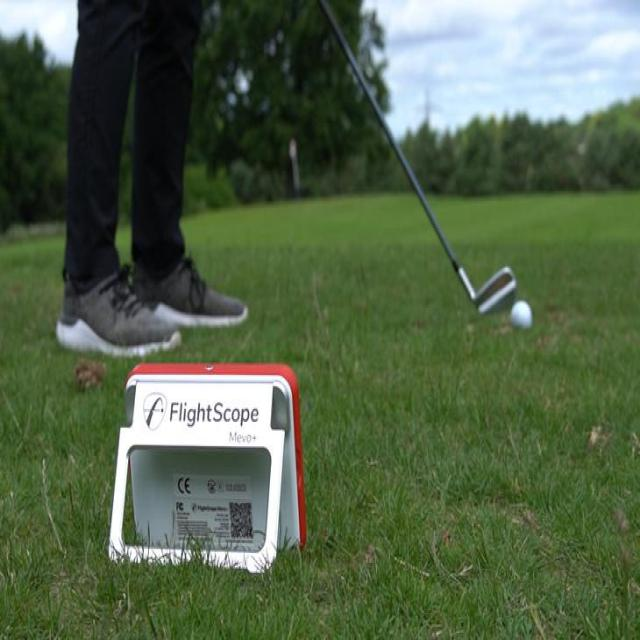ball: (508, 277, 537, 339)
